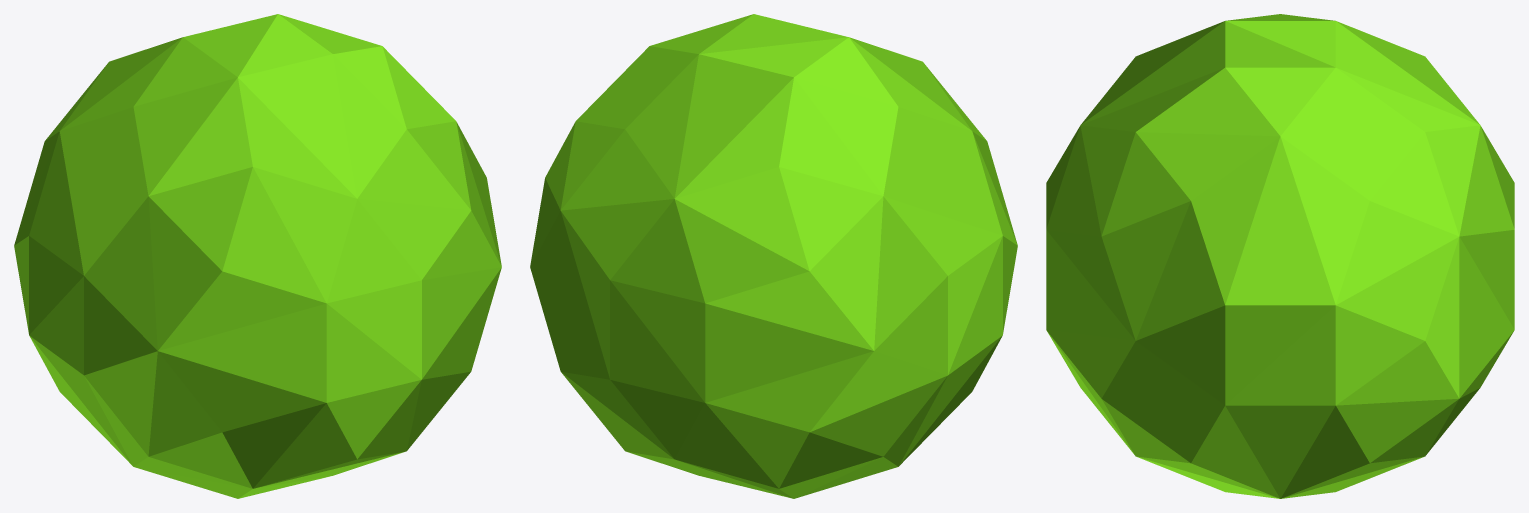
3 renders of one model, left to right at view 1: azimuth 30°, elevation 25°; view 2: azimuth 150°, elevation 25°; view 3: azimuth 270°, elevation 25°, orthographic.
Visible parts, largest first — view 1: body; view 2: body; view 3: body.
Part boxes in pixels (box(x1,y1,x2,y2)): body: box(14, 14, 501, 498); body: box(530, 14, 1017, 498); body: box(1046, 14, 1514, 498).
Bounding box in the file's own units: 0.75 × 0.75 × 0.75.
